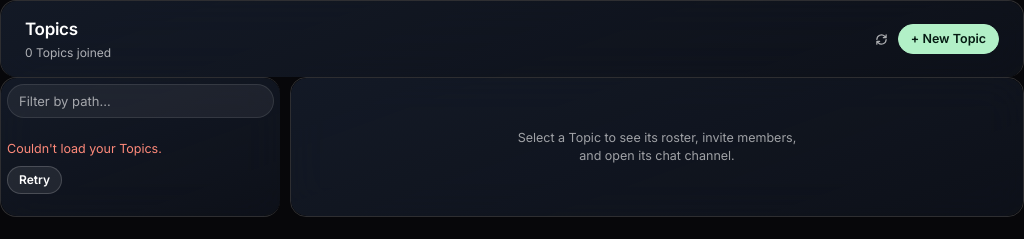
Scenario: QURATOR-93 — Topics mine load failure is not a confident empty › Retry re-fetches: reject → resolve → the mine list renders and the error is gone
The image size is (1024, 239).
Step 1. Click the button "Retry" → (34, 180), box [7, 166, 62, 194]
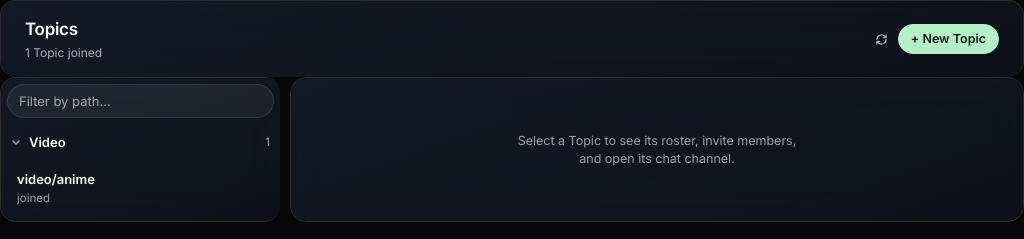
Check: the text "video/anime" is shown, box [17, 171, 95, 187]
Check: the message "Couldn't load your Topics. Retry" is gone
